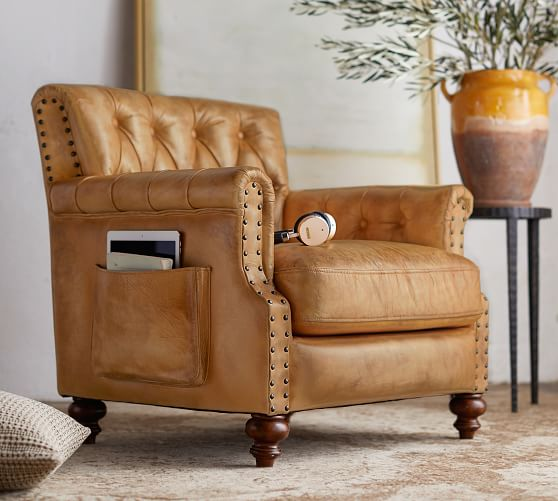chairs: (27, 76, 491, 470)
